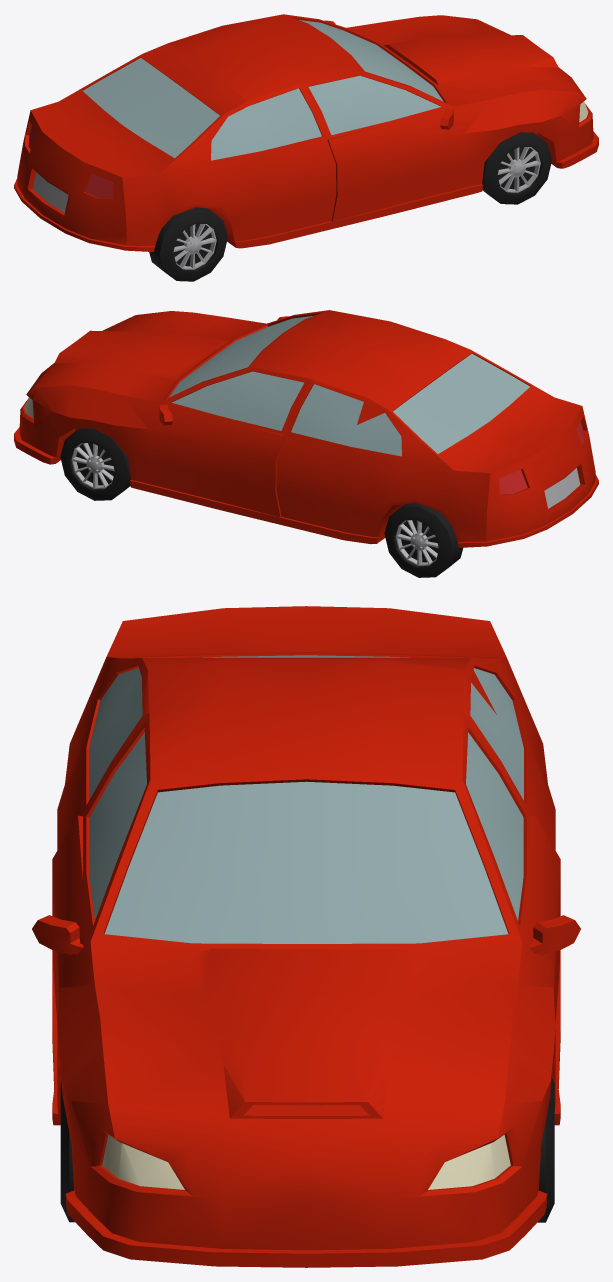
The model's file is sedan.glb.
3 views of the same model, one above another, from view 1: azimuth 30°, elevation 25°; view 2: azimuth 150°, elevation 25°; view 3: azimuth 270°, elevation 25° (orthographic). The views are drawn at different scales.
Visible parts, largest first — view 1: SportsCar_Cube_005, SportsCar_BackWheels_Cylinder_004, SportsCar_FrontRightWheel_Cylinder_014; view 2: SportsCar_Cube_005, SportsCar_BackWheels_Cylinder_004, SportsCar_FrontLeftWheel_Cylinder_013; view 3: SportsCar_Cube_005, SportsCar_FrontLeftWheel_Cylinder_013, SportsCar_FrontRightWheel_Cylinder_014.
Boxes of the visible parts, x1,y1,x2,y2 form: SportsCar_Cube_005: [14, 14, 598, 251]; SportsCar_BackWheels_Cylinder_004: [149, 207, 227, 281]; SportsCar_FrontRightWheel_Cylinder_014: [482, 132, 551, 204]; SportsCar_Cube_005: [14, 310, 598, 547]; SportsCar_BackWheels_Cylinder_004: [384, 503, 463, 577]; SportsCar_FrontLeftWheel_Cylinder_013: [60, 428, 130, 500]; SportsCar_Cube_005: [32, 606, 580, 1267]; SportsCar_FrontLeftWheel_Cylinder_013: [537, 1078, 554, 1222]; SportsCar_FrontRightWheel_Cylinder_014: [60, 1082, 74, 1222].
Bounding box in the file's own units: 4.5 × 1.31 × 2.05.
